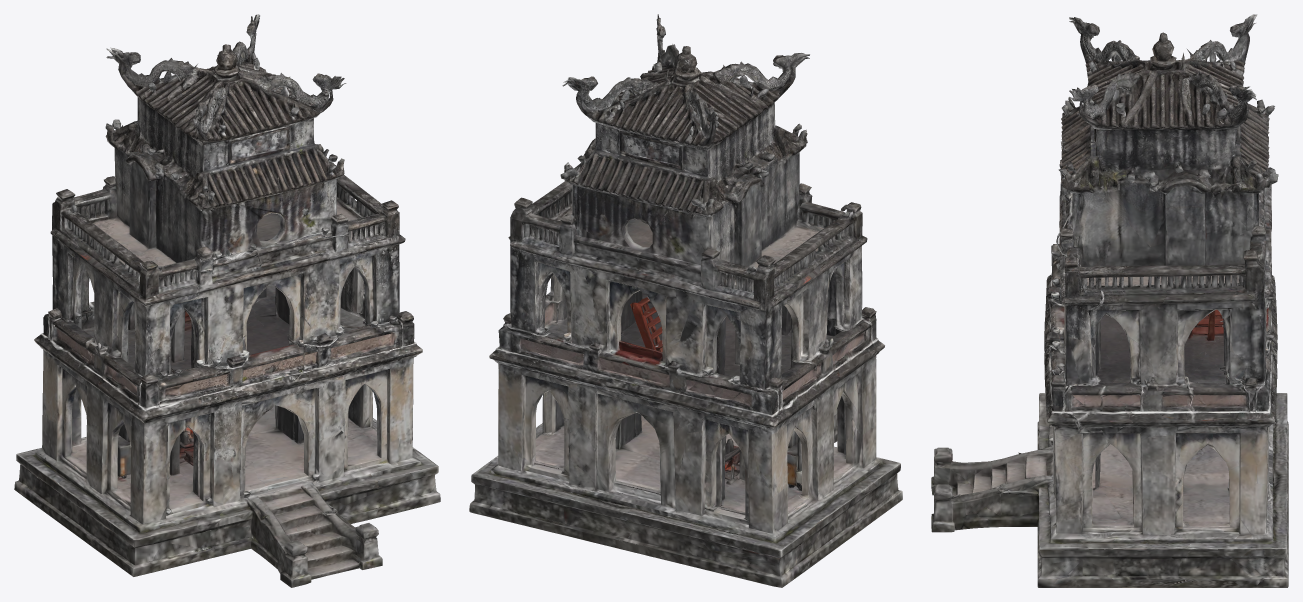
File: thap-rua.glb
3 views of the same model, side by side, from view 1: azimuth 30°, elevation 25°; view 2: azimuth 150°, elevation 25°; view 3: azimuth 270°, elevation 25° (orthographic). The views are drawn at different scales.
Bounding box in the file's own units: 0.7111 × 0.9993 × 0.6802.
1 material, 1 textured.
